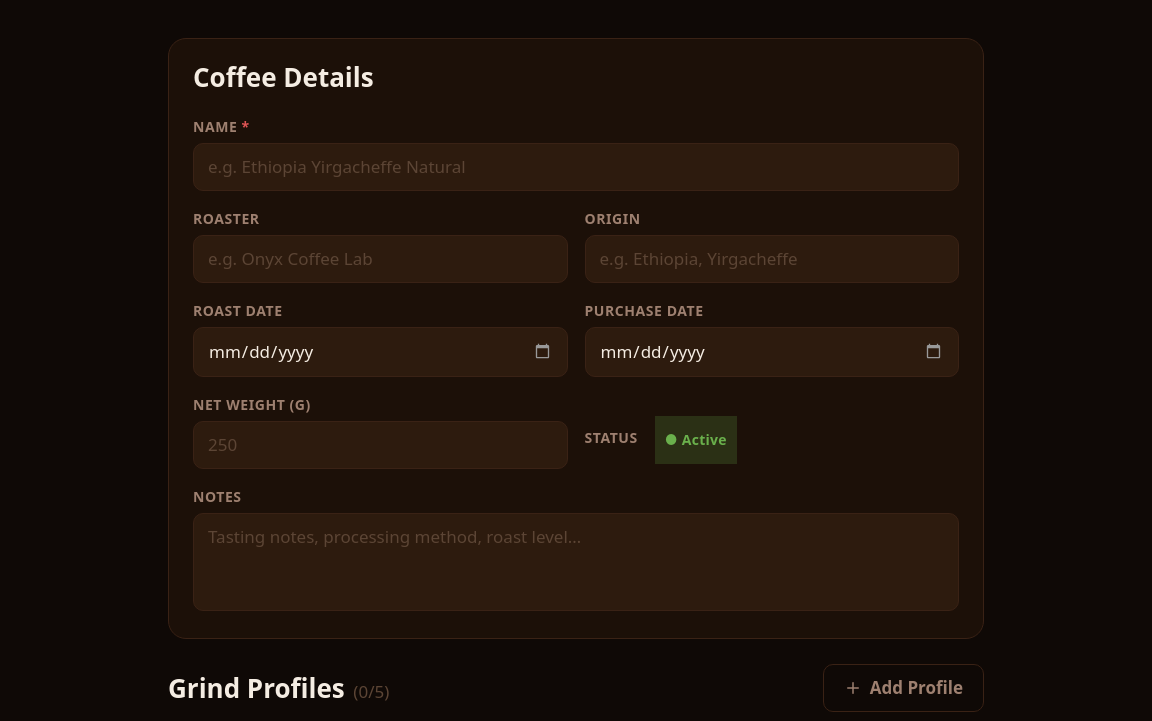
Test case: CoffeeForm › grind profiles › adds a profile when Add Profile is clicked
Click the button "Add Profile" at (903, 688), box [823,664,984,712]
(page scrolled)
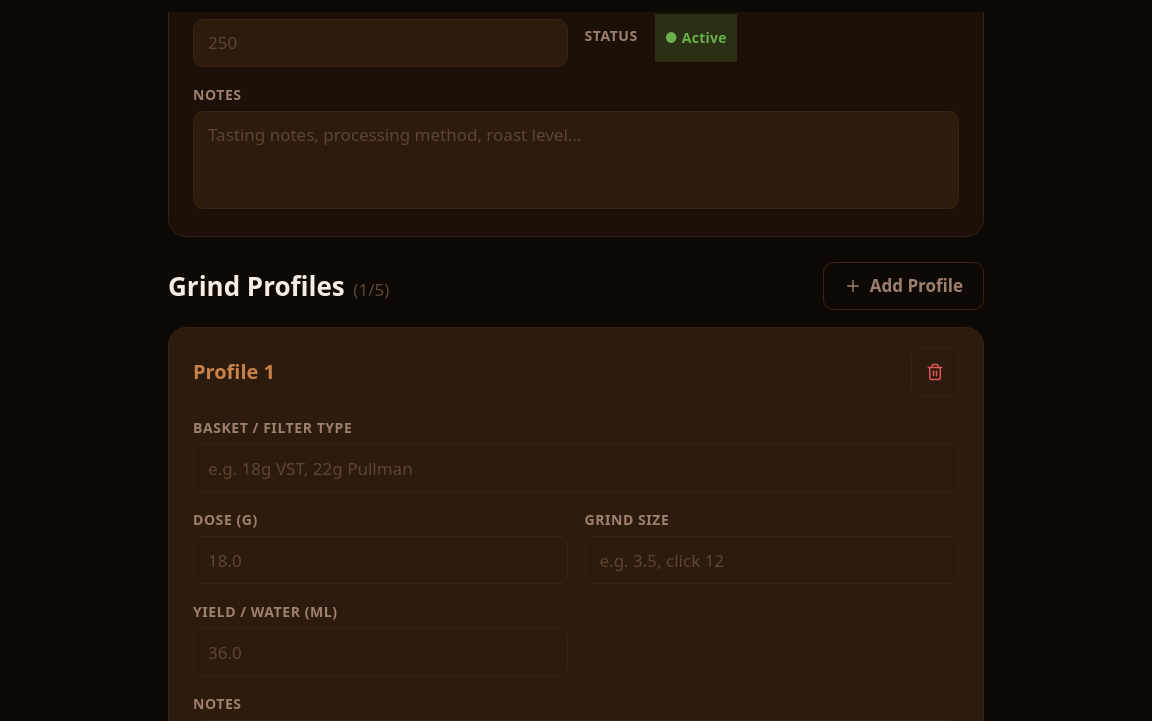
Expected: the heading "Profile 1" is shown, [193,357,275,387]
